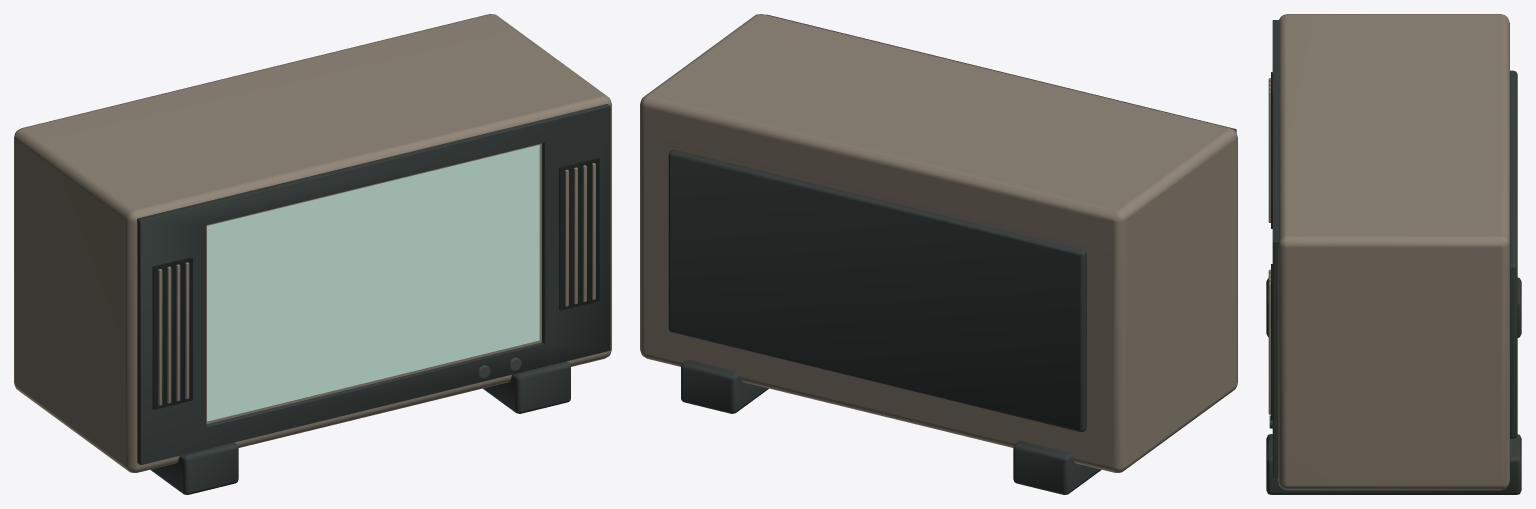
The model's file is SM_TV_WideRetro.fbx.
The picture shows the model from 3 angles, left to right: view 1: azimuth 30°, elevation 25°; view 2: azimuth 150°, elevation 25°; view 3: azimuth 270°, elevation 25°; orthographic projection. The views are drawn at different scales.
Visible parts, largest first — view 1: SM_TV_WideRetro__Body, SM_TV_WideRetro__Screen; view 2: SM_TV_WideRetro__Body; view 3: SM_TV_WideRetro__Body.
Part boxes in pixels (x1=…): SM_TV_WideRetro__Body: x1=14, y1=14, x2=611, y2=494; SM_TV_WideRetro__Screen: x1=207, y1=145, x2=539, y2=421; SM_TV_WideRetro__Body: x1=640, y1=14, x2=1237, y2=494; SM_TV_WideRetro__Body: x1=1266, y1=14, x2=1521, y2=494.
Size of the model in its own units: 1.4 by 0.8 by 0.66.
